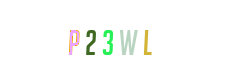2: (68, 0, 148, 80)
3: (72, 0, 152, 80)
L: (84, 0, 164, 80)
P: (50, 0, 130, 80)
W: (81, 0, 161, 80)
